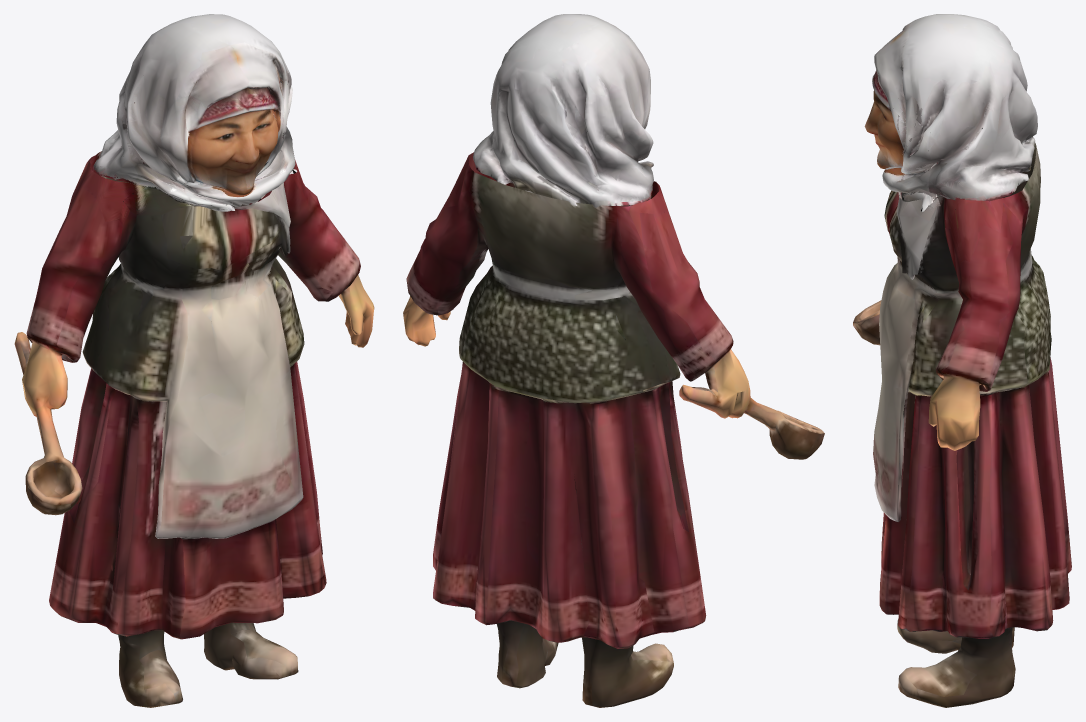
File: cook.gen.glb
The picture shows the model from 3 angles, left to right: view 1: azimuth 30°, elevation 25°; view 2: azimuth 150°, elevation 25°; view 3: azimuth 270°, elevation 25°; orthographic projection.
Visible parts, largest first — view 1: cook.raw; view 2: cook.raw; view 3: cook.raw.
Boxes of the visible parts, x1,y1,x2,y2 form: cook.raw: (14, 14, 374, 707); cook.raw: (403, 14, 824, 707); cook.raw: (853, 14, 1071, 707).
Size of the model in its own units: 1.06 by 1.75 by 0.5323.
Materials: 1 (1 with a texture image).
